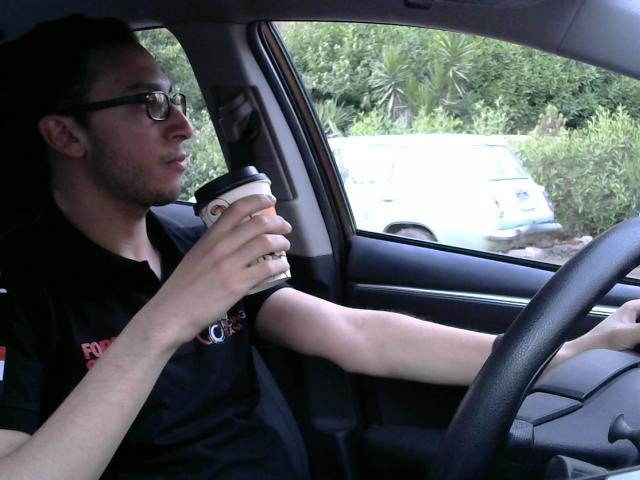Drinking: (190, 151, 292, 297)
